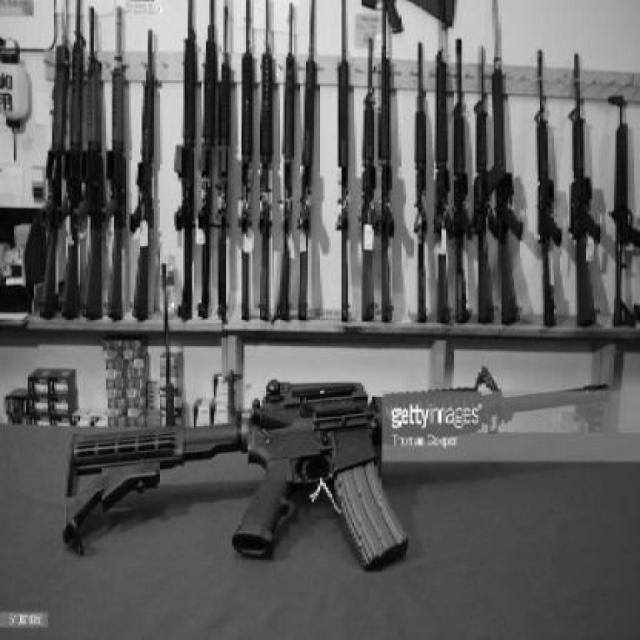weapon: (60, 365, 612, 574), (566, 51, 605, 329), (487, 48, 525, 327), (35, 3, 68, 320), (54, 4, 86, 323), (101, 7, 131, 322), (534, 51, 566, 329), (473, 43, 504, 328), (128, 28, 158, 322), (76, 6, 104, 320), (271, 2, 297, 324), (176, 0, 198, 322), (429, 47, 454, 328), (213, 2, 235, 320), (195, 3, 216, 320), (335, 2, 354, 324), (256, 0, 275, 320), (236, 2, 255, 321), (612, 97, 638, 328), (377, 4, 395, 322), (453, 39, 472, 327), (412, 40, 430, 326), (298, 2, 314, 320), (361, 37, 377, 324)
